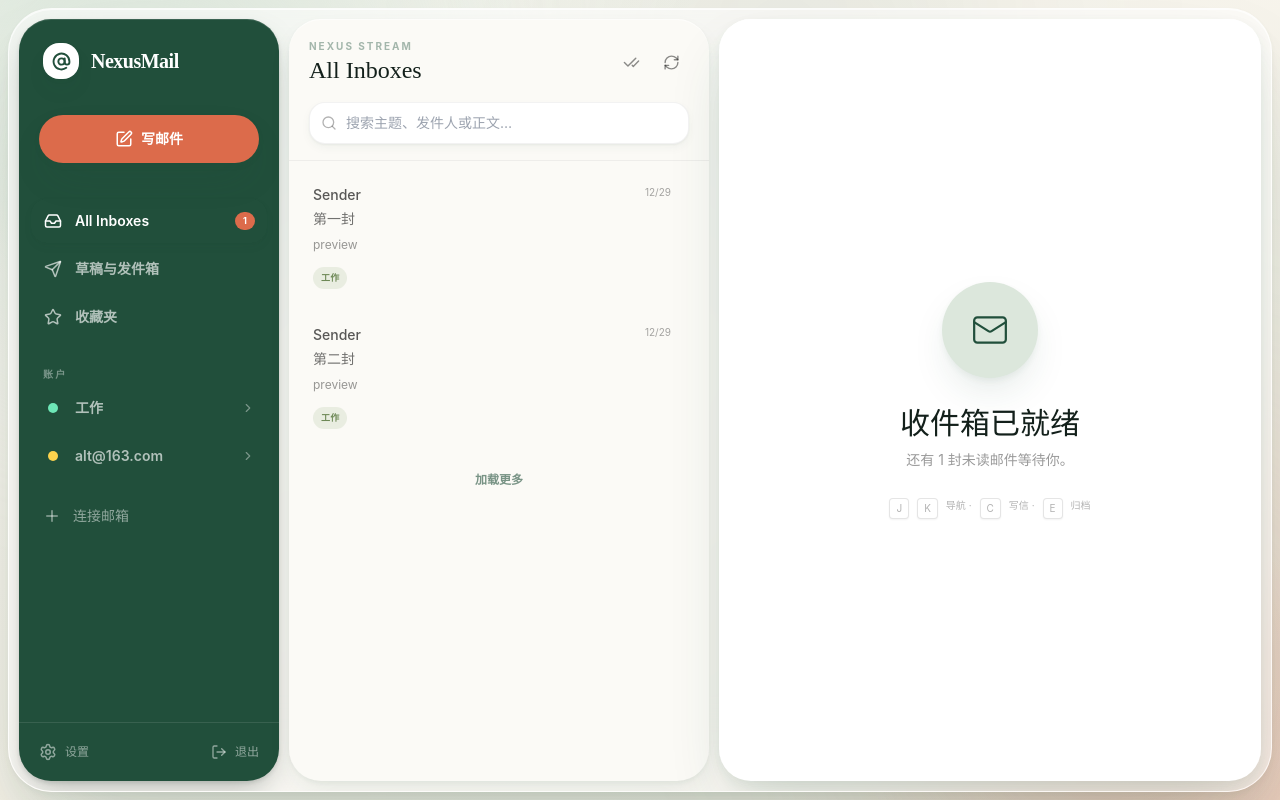
Test: view scoping › says so when the unread mail is past even the wide page
The image size is (1280, 800).
expect the button "Sender 12/29 第一封 preview 工作" is shown: met, box x1=297 y1=169 x2=701 y2=304
Click the button "All Inboxes 1": click(149, 221) x1=31 y1=199 x2=267 y2=243
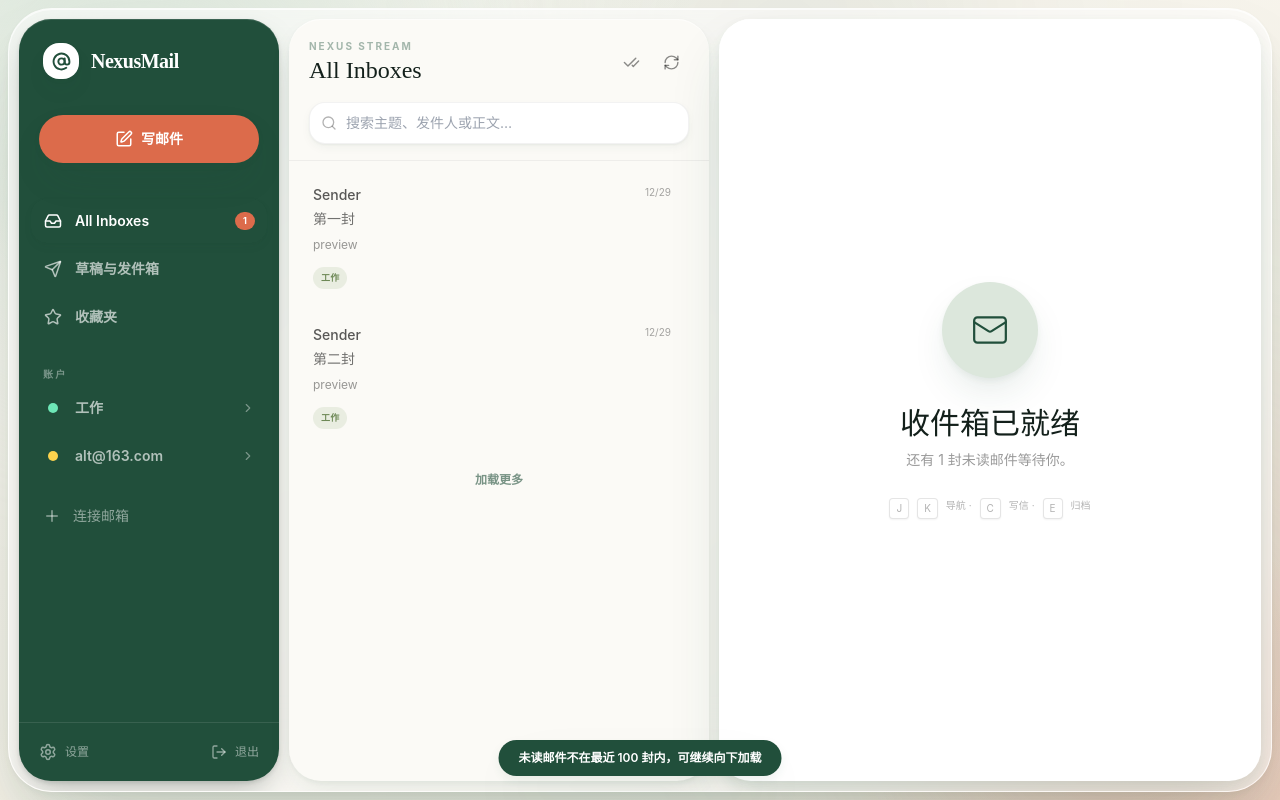
expect the message shows "未读邮件不在最近 100 封内": met, box x1=518 y1=750 x2=762 y2=765
